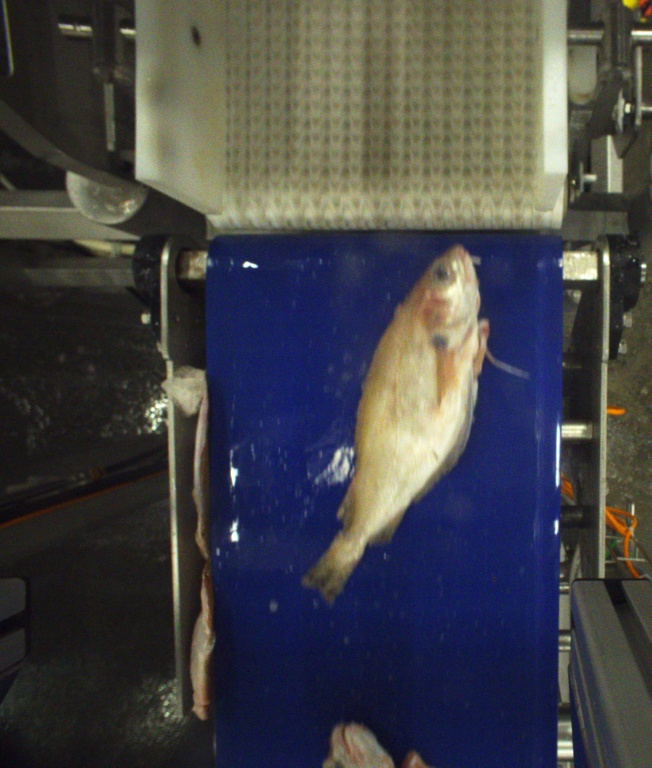BIB: (319, 709, 438, 768)
